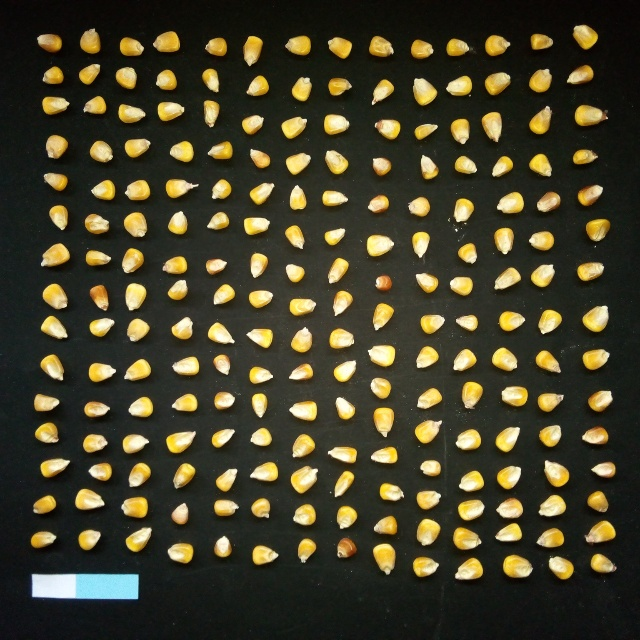escala: (32, 574, 140, 599)
maiz: (367, 540, 401, 577), (449, 554, 487, 584), (571, 101, 613, 128), (540, 457, 573, 490), (287, 463, 321, 495), (570, 21, 604, 53), (580, 300, 612, 334), (409, 74, 440, 109), (494, 421, 525, 456), (164, 427, 200, 457), (164, 174, 201, 203), (579, 519, 620, 545), (367, 74, 399, 107), (38, 240, 72, 271), (38, 280, 71, 311), (412, 515, 443, 548), (481, 68, 515, 98), (369, 405, 399, 439), (562, 61, 598, 89), (479, 109, 507, 145), (120, 209, 152, 240), (574, 180, 607, 210), (448, 525, 486, 551), (526, 103, 555, 137), (412, 418, 446, 447), (531, 347, 566, 375), (502, 552, 537, 580), (168, 460, 199, 491), (525, 64, 555, 96), (368, 300, 398, 332), (363, 230, 396, 259), (38, 313, 72, 341), (490, 265, 524, 293), (454, 496, 488, 524), (240, 33, 267, 68), (37, 352, 68, 382), (123, 355, 154, 385), (528, 258, 558, 289), (204, 318, 236, 347), (489, 344, 521, 373), (579, 345, 613, 372), (321, 147, 351, 177), (532, 524, 568, 549), (279, 112, 310, 141), (454, 425, 485, 454), (119, 245, 147, 277), (459, 379, 487, 411), (248, 541, 281, 568), (496, 307, 529, 334), (416, 310, 450, 336), (544, 555, 578, 581), (587, 550, 621, 576), (322, 110, 353, 138), (445, 73, 476, 101), (525, 151, 556, 179), (537, 306, 565, 337), (246, 180, 278, 207), (324, 254, 351, 286), (123, 281, 150, 313), (245, 324, 277, 351), (86, 359, 118, 386), (31, 419, 63, 446), (123, 526, 155, 553), (583, 216, 615, 243), (582, 489, 614, 516), (370, 116, 403, 142), (494, 495, 527, 521), (286, 294, 320, 319), (285, 398, 319, 423), (248, 458, 282, 483), (73, 486, 107, 511), (535, 389, 569, 414), (579, 422, 613, 447), (166, 137, 196, 165), (290, 431, 318, 461), (124, 461, 154, 489), (212, 463, 240, 493), (451, 195, 479, 225), (152, 28, 183, 55), (330, 468, 357, 499), (367, 32, 398, 59), (483, 31, 514, 58), (585, 387, 616, 414), (495, 463, 526, 490), (495, 188, 527, 214), (537, 493, 569, 519), (38, 454, 71, 479), (493, 224, 517, 258), (42, 133, 71, 161), (289, 500, 318, 528), (413, 343, 441, 372), (284, 150, 314, 177), (123, 176, 153, 203), (46, 202, 73, 232), (412, 269, 442, 296), (498, 382, 528, 409), (288, 324, 314, 355), (121, 430, 152, 456), (294, 535, 320, 566), (575, 259, 606, 285), (415, 386, 446, 412), (170, 354, 202, 379), (366, 343, 398, 368), (39, 93, 72, 117), (116, 102, 149, 126), (30, 391, 63, 415), (163, 541, 196, 565), (409, 555, 442, 579), (288, 74, 316, 102), (487, 153, 516, 180), (535, 188, 564, 215), (239, 214, 273, 237), (87, 282, 112, 313), (326, 325, 357, 350), (285, 360, 316, 385), (125, 394, 156, 419), (119, 495, 150, 520), (318, 187, 353, 209), (156, 99, 188, 123), (587, 458, 619, 482), (413, 488, 446, 511), (330, 394, 358, 421), (450, 346, 478, 373), (326, 34, 355, 60), (244, 73, 273, 99), (282, 223, 308, 252), (170, 314, 196, 343), (211, 532, 237, 561), (527, 28, 556, 54), (246, 250, 271, 280), (442, 35, 472, 60), (416, 152, 441, 182), (458, 468, 488, 493), (492, 522, 526, 544), (245, 286, 276, 310), (376, 480, 407, 504), (409, 228, 432, 260), (325, 444, 360, 465), (125, 317, 152, 344), (209, 424, 236, 451), (537, 422, 564, 449), (239, 112, 267, 138), (83, 211, 111, 237), (75, 526, 103, 552), (80, 397, 113, 419), (284, 33, 313, 58), (87, 138, 116, 163), (331, 289, 356, 318), (331, 358, 360, 383), (363, 190, 392, 215), (79, 26, 103, 56), (206, 139, 236, 163), (247, 363, 277, 387), (448, 116, 472, 146), (123, 136, 154, 159), (368, 444, 399, 467), (201, 98, 223, 130), (28, 528, 60, 550), (570, 146, 602, 168), (35, 30, 63, 55), (199, 66, 224, 94), (246, 144, 271, 172), (89, 177, 117, 202), (281, 260, 309, 285), (163, 277, 191, 302), (334, 503, 359, 531), (210, 175, 234, 204), (286, 183, 310, 212), (407, 36, 436, 60), (412, 119, 441, 143), (528, 229, 557, 253), (371, 513, 400, 537), (81, 247, 114, 268), (40, 170, 70, 193), (159, 253, 190, 275), (87, 316, 118, 338), (453, 151, 479, 177), (166, 209, 191, 236), (81, 94, 109, 118), (117, 35, 146, 58), (30, 493, 59, 516), (80, 432, 110, 454), (114, 65, 139, 91), (333, 535, 358, 561), (76, 62, 103, 86), (448, 274, 475, 298), (368, 376, 395, 400), (168, 499, 191, 527), (454, 311, 482, 334), (210, 497, 240, 518), (212, 282, 237, 307), (248, 424, 274, 448), (405, 194, 431, 218), (326, 76, 355, 97), (85, 461, 114, 482), (154, 68, 179, 92), (212, 389, 237, 413), (249, 496, 273, 521), (367, 154, 393, 177), (205, 210, 233, 231), (321, 226, 349, 247), (171, 392, 199, 413), (249, 391, 270, 419), (210, 353, 234, 377), (455, 241, 479, 265), (203, 35, 229, 57), (40, 65, 66, 87), (418, 457, 444, 479), (204, 255, 230, 275), (371, 273, 396, 293)
